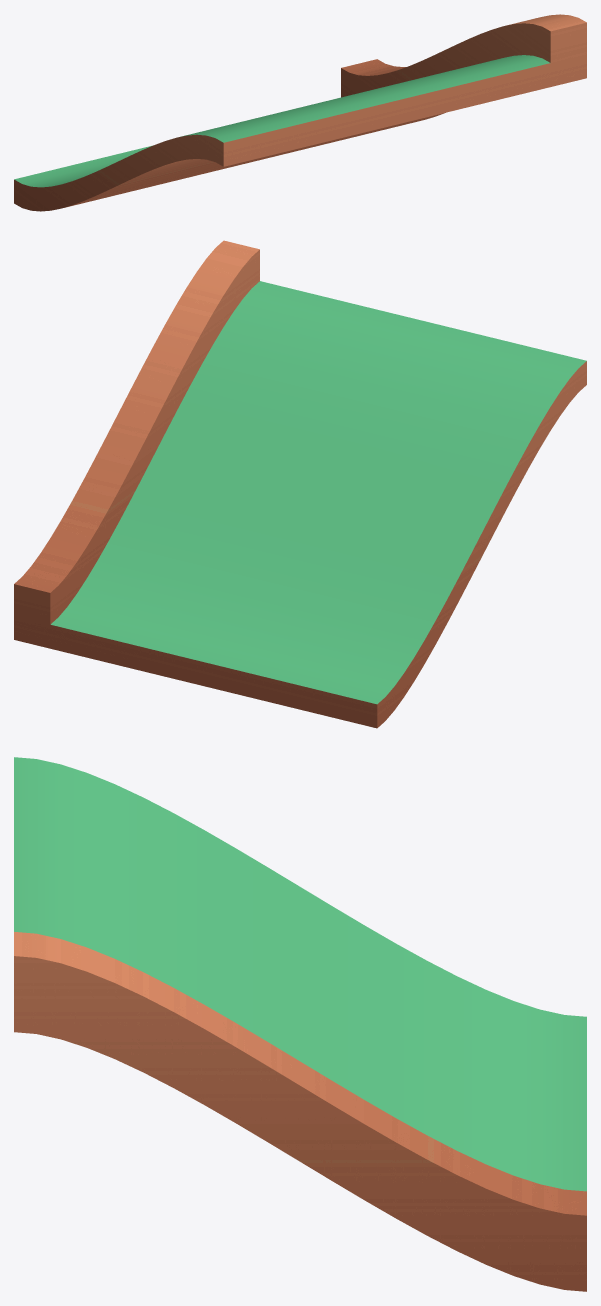
The model's file is ramp-side.glb.
The picture shows the model from 3 angles, top to bottom: view 1: azimuth 30°, elevation 25°; view 2: azimuth 150°, elevation 25°; view 3: azimuth 270°, elevation 25°; orthographic projection. The views are drawn at different scales.
Parts seen in each view (by area): view 1: ramp-side; view 2: ramp-side; view 3: ramp-side.
Part boxes in pixels (left/top/right/bottom): ramp-side: left=14, top=14, right=586, bottom=211; ramp-side: left=14, top=240, right=586, bottom=728; ramp-side: left=14, top=757, right=586, bottom=1291.
Bounding box in the file's own units: 0.9999 × 0.6467 × 0.9999.
1 material, 1 textured.
